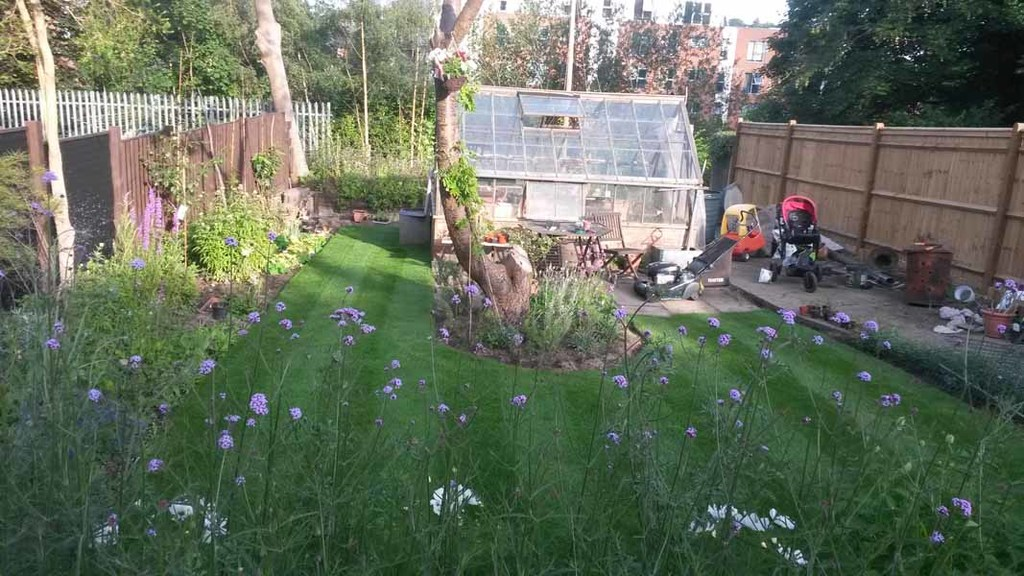Tree: (0, 0, 747, 191), (424, 0, 538, 319), (740, 0, 1023, 123), (0, 0, 96, 285)
